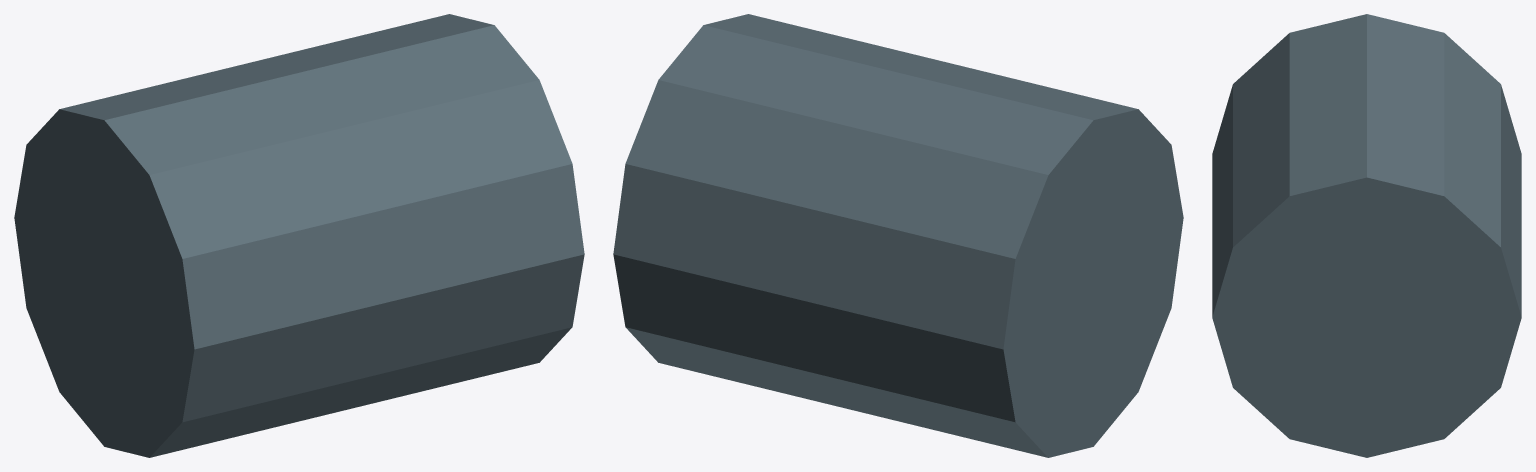
The model's file is SM_Factory_Large_pipe_1m.glb.
The picture shows the model from 3 angles, left to right: view 1: azimuth 30°, elevation 25°; view 2: azimuth 150°, elevation 25°; view 3: azimuth 270°, elevation 25°; orthographic projection. The views are drawn at different scales.
Parts seen in each view (by area): view 1: SM_Factory_Large_pipe_1m; view 2: SM_Factory_Large_pipe_1m; view 3: SM_Factory_Large_pipe_1m.
Part boxes in pixels (<box>): SM_Factory_Large_pipe_1m: <box>14,14,584,457</box>; SM_Factory_Large_pipe_1m: <box>613,14,1183,457</box>; SM_Factory_Large_pipe_1m: <box>1212,14,1521,457</box>.
Bounding box in the file's own units: 1 × 0.8 × 0.8.
1 material, 1 textured.
